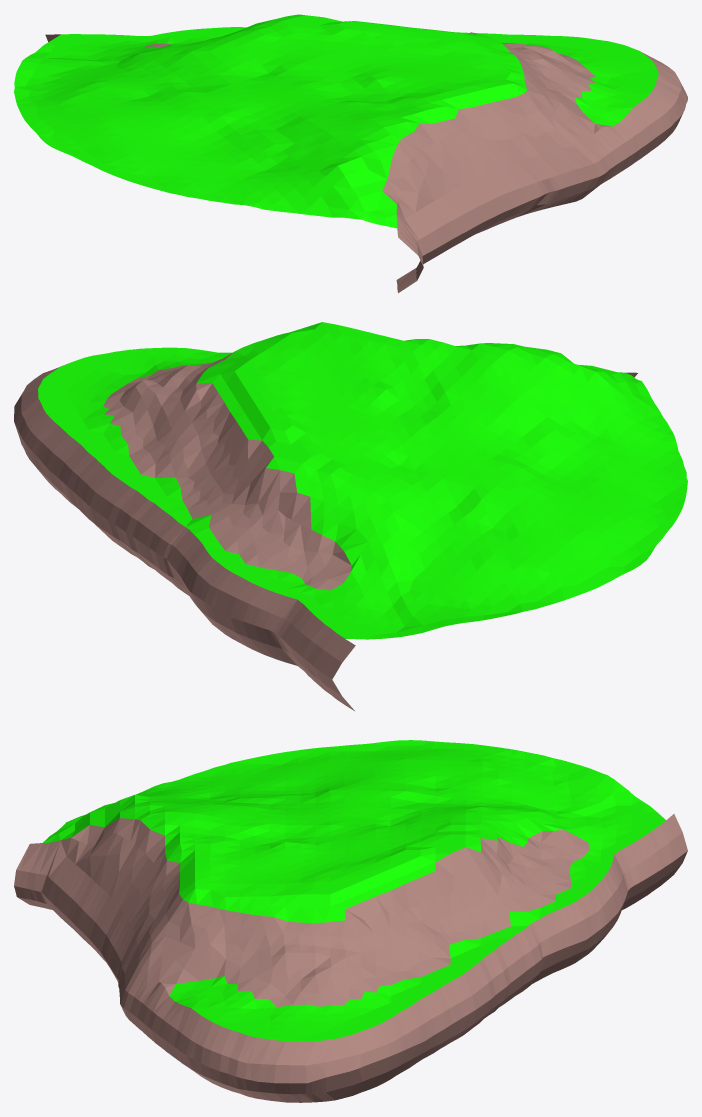
Rendered from col_carisle_mid_landmass_01.fbx.
3 views of the same model, one above another, from view 1: azimuth 30°, elevation 25°; view 2: azimuth 150°, elevation 25°; view 3: azimuth 270°, elevation 25° (orthographic). The views are drawn at different scales.
Visible parts, largest first — view 1: col_carisle_mid_landmass_01; view 2: col_carisle_mid_landmass_01; view 3: col_carisle_mid_landmass_01.
Boxes of the visible parts, x1,y1,x2,y2 form: col_carisle_mid_landmass_01: [14, 14, 687, 293]; col_carisle_mid_landmass_01: [14, 322, 687, 710]; col_carisle_mid_landmass_01: [14, 740, 687, 1102].
Bounding box in the file's own units: 115 × 108 × 21.04.
